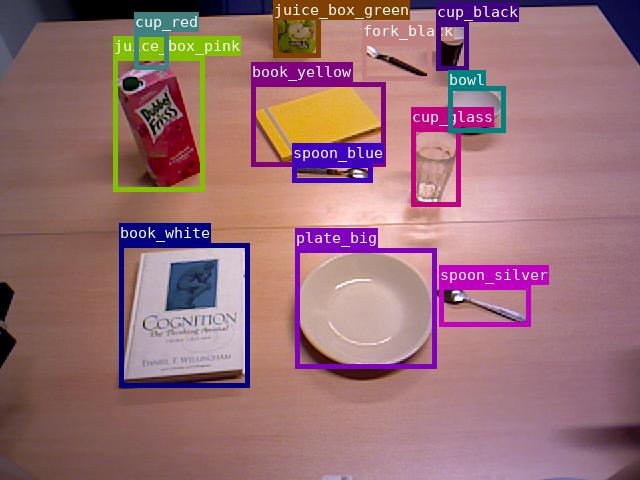book_white: (119, 243, 249, 387)
book_yellow: (251, 82, 385, 166)
bowl: (448, 86, 505, 132)
cup_black: (436, 22, 468, 70)
cup_glass: (411, 127, 460, 206)
cup_red: (134, 32, 168, 69)
fork_black: (362, 41, 431, 80)
juice_box_green: (273, 0, 320, 57)
juice_box_pink: (113, 56, 204, 191)
plate_big: (295, 248, 436, 368)
spoon_blue: (292, 163, 372, 182)
spoon_silver: (439, 285, 530, 326)
